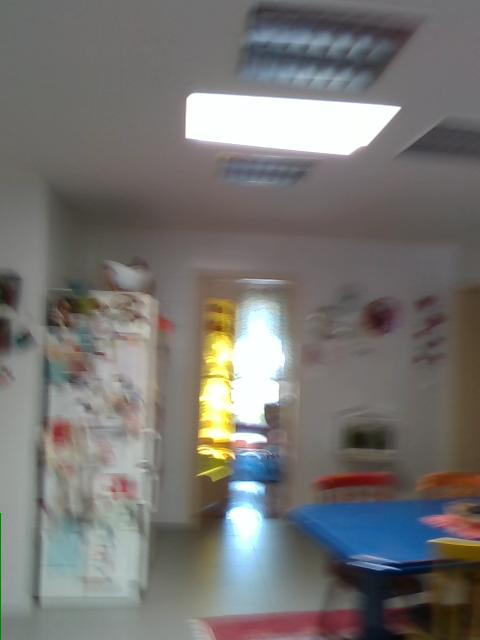semi_door: (187, 264, 304, 531)
